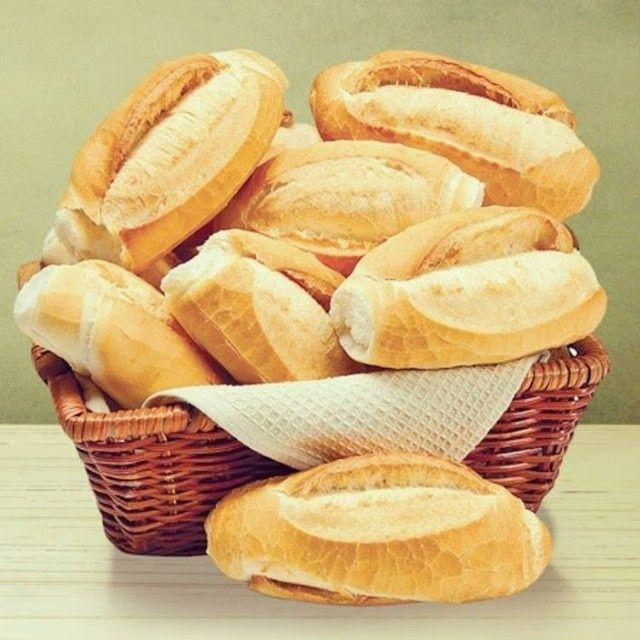bread: (205, 453, 550, 604), (56, 50, 286, 272), (310, 51, 598, 218), (330, 206, 605, 368), (211, 141, 482, 274), (161, 230, 361, 382), (14, 260, 220, 407), (260, 111, 320, 163), (261, 111, 320, 162), (41, 228, 76, 265), (41, 228, 75, 265)
